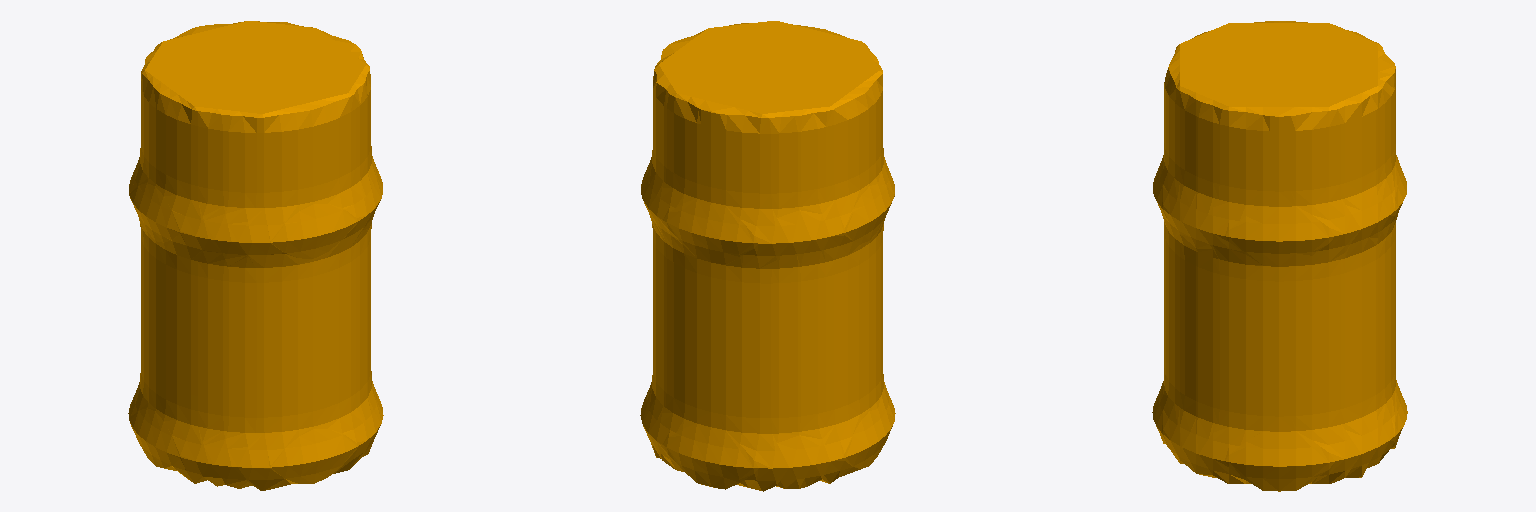
URDF robot description (cylinder_../../meshes/cylinders/cylinder_196.stl):
<?xml version="1.0" encoding="utf-8"?>  <robot name="cylinder_../../meshes/cylinders/cylinder_196.stl">   <link name="cylinder_../../meshes/cylinders/cylinder_196.stl">     <visual>       <geometry>         <mesh filename="../meshes/cylinders/cylinder_196.stl" scale="1 1 1"/>       </geometry>     </visual>     <collision>       <geometry>         <mesh filename="../meshes/cylinders/cylinder_196.stl" scale="1 1 1"/>       </geometry>     </collision>     <inertial>        <origin         xyz="0 0 0"         rpy="0 0 0" />       <mass value="0.4953568511733492"/>       <origin rpy="0 0 0" xyz="0 0 0"/>       <inertia ixx="0.000810205955113546" ixy="-9.225206486737877e-10" ixz="5.879690229480746e-08" iyy="0.0008102137009615519" iyz="-5.992876848820973e-09" izz="0.0003116580313641664"/>     </inertial>   </link>  </robot>

--- Facts derived from the render (not from the file) ---
The picture shows the robot from 3 angles, left to right: view 1: azimuth 30°, elevation 25°; view 2: azimuth 150°, elevation 25°; view 3: azimuth 270°, elevation 25°; orthographic projection.
Model cylinder_../../meshes/cylinders/cylinder_196.stl with 1 links and 0 joints (none), rooted at cylinder_../../meshes/cylinders/cylinder_196.stl, posed every joint at zero.
Visible links, largest first — view 1: cylinder_../../meshes/cylinders/cylinder_196.stl; view 2: cylinder_../../meshes/cylinders/cylinder_196.stl; view 3: cylinder_../../meshes/cylinders/cylinder_196.stl.
Link boxes in pixels (box(x1,y1,x2,y2)): cylinder_../../meshes/cylinders/cylinder_196.stl: box(128, 21, 383, 490); cylinder_../../meshes/cylinders/cylinder_196.stl: box(640, 21, 895, 491); cylinder_../../meshes/cylinders/cylinder_196.stl: box(1152, 21, 1407, 491).
Bounding box of the posed robot: 0.0771 × 0.0771 × 0.1259 m (x, y, z).
1 mesh visuals loaded from 1 distinct referenced files (1 binary STL).